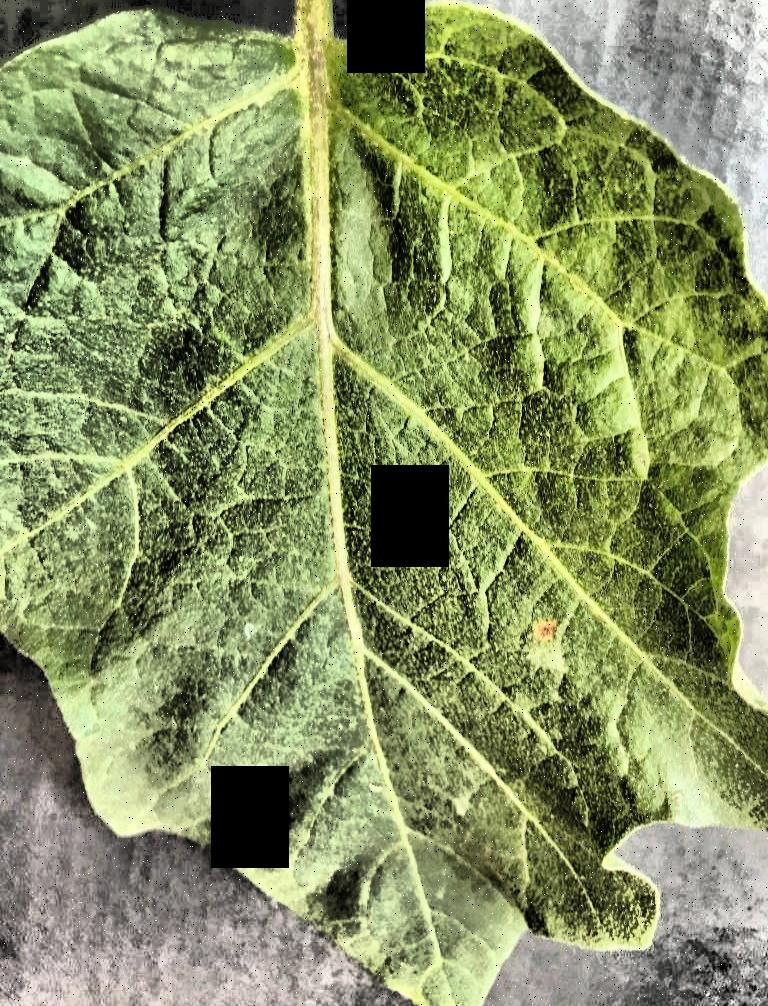HEALTHY: (0, 0, 768, 1006)
